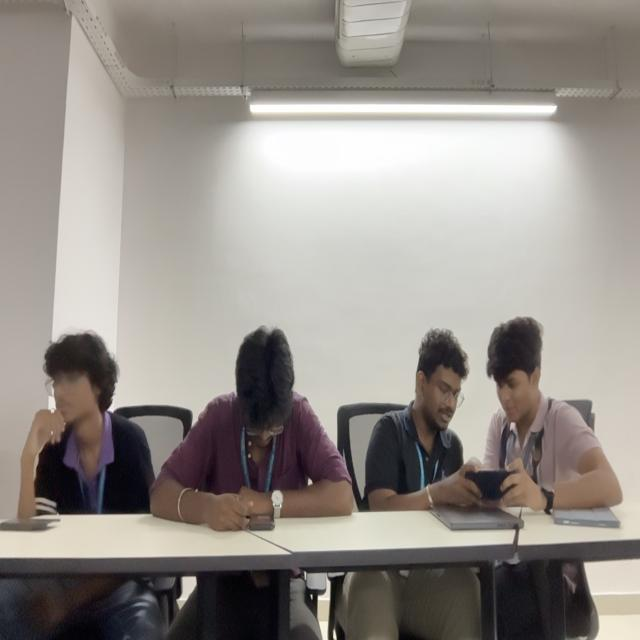Isolated: (151, 322, 354, 532), (17, 321, 145, 519)
socializing: (365, 317, 623, 513)
